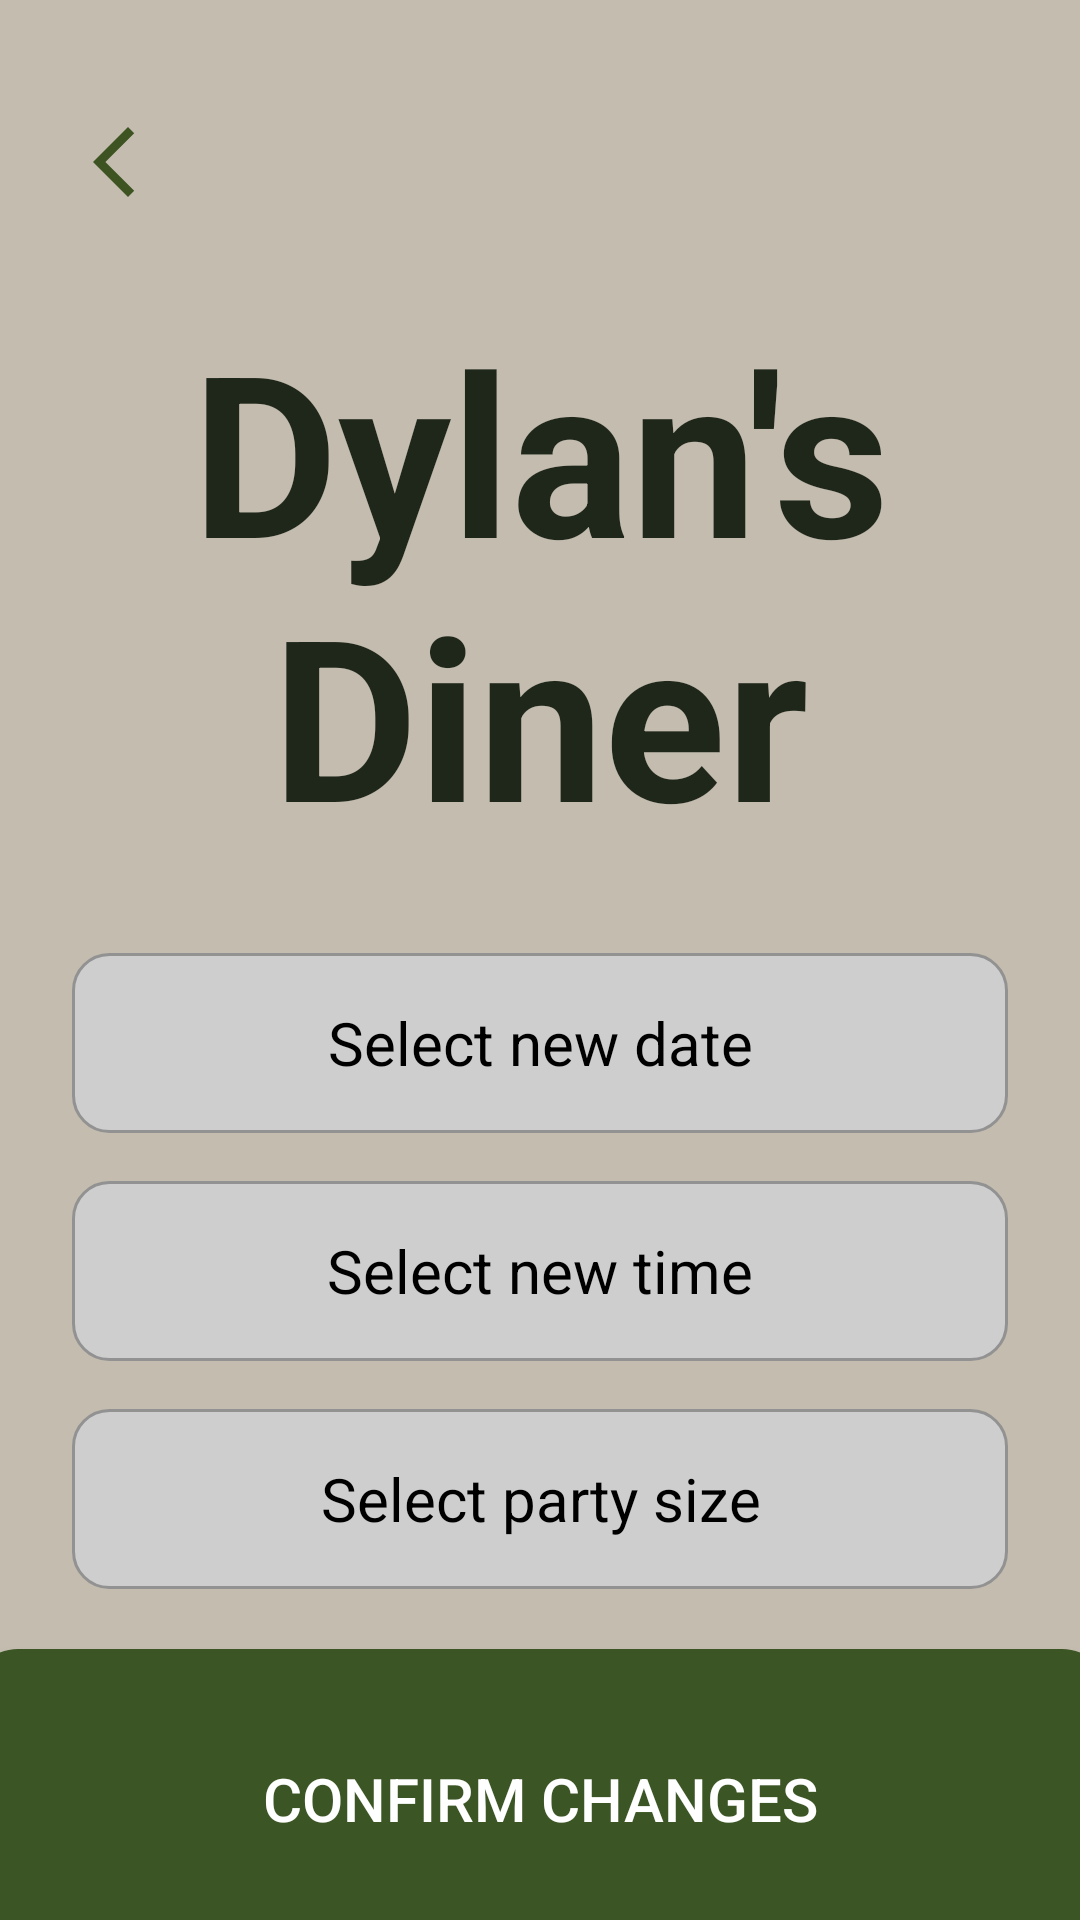

Point at icon controls on the screen. Image size 1080px x 1920px, points as (x=x, y=y).
Back: (x=113, y=162)
